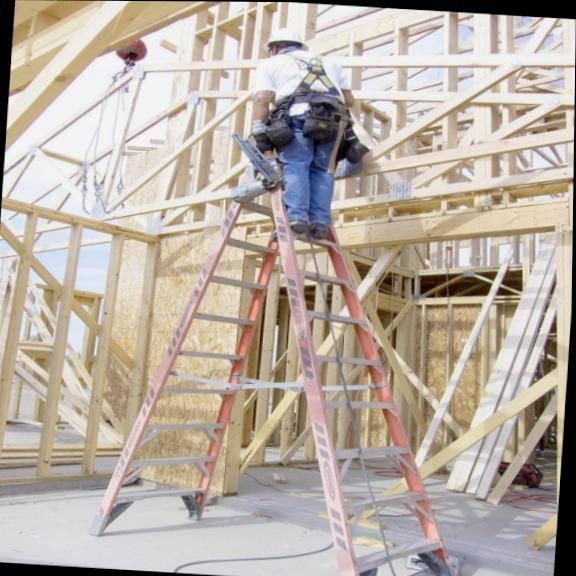no_safety_vest: (250, 50, 361, 113)
